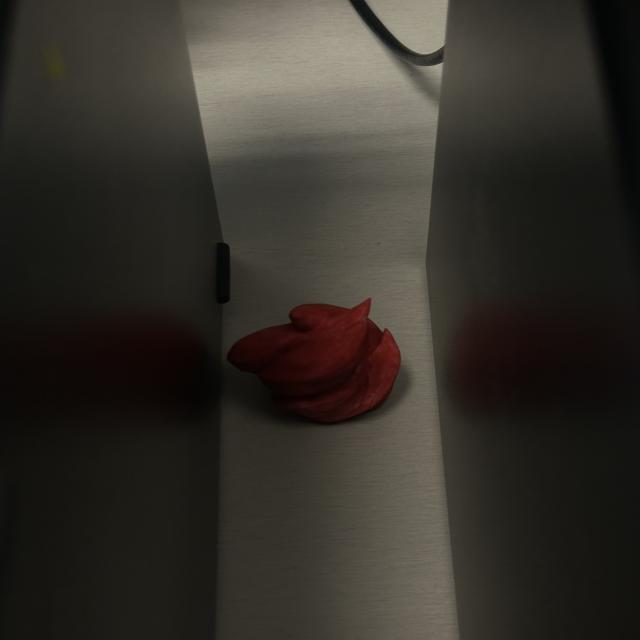fire: (224, 295, 404, 425)
